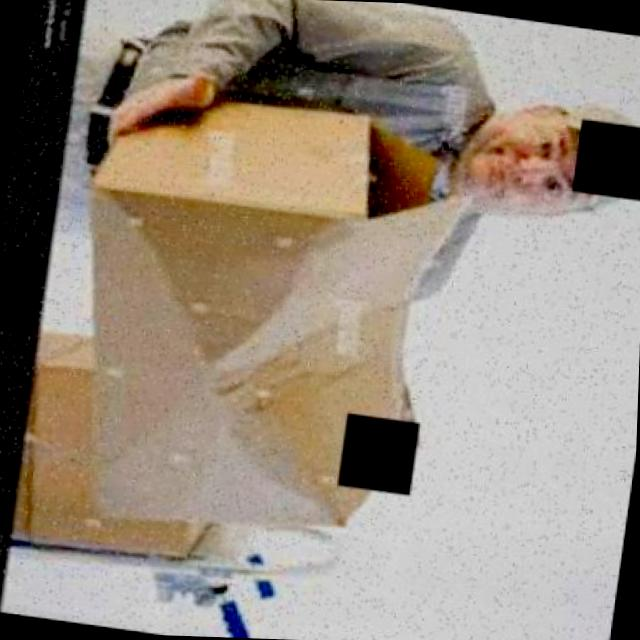box: (31, 66, 462, 556)
